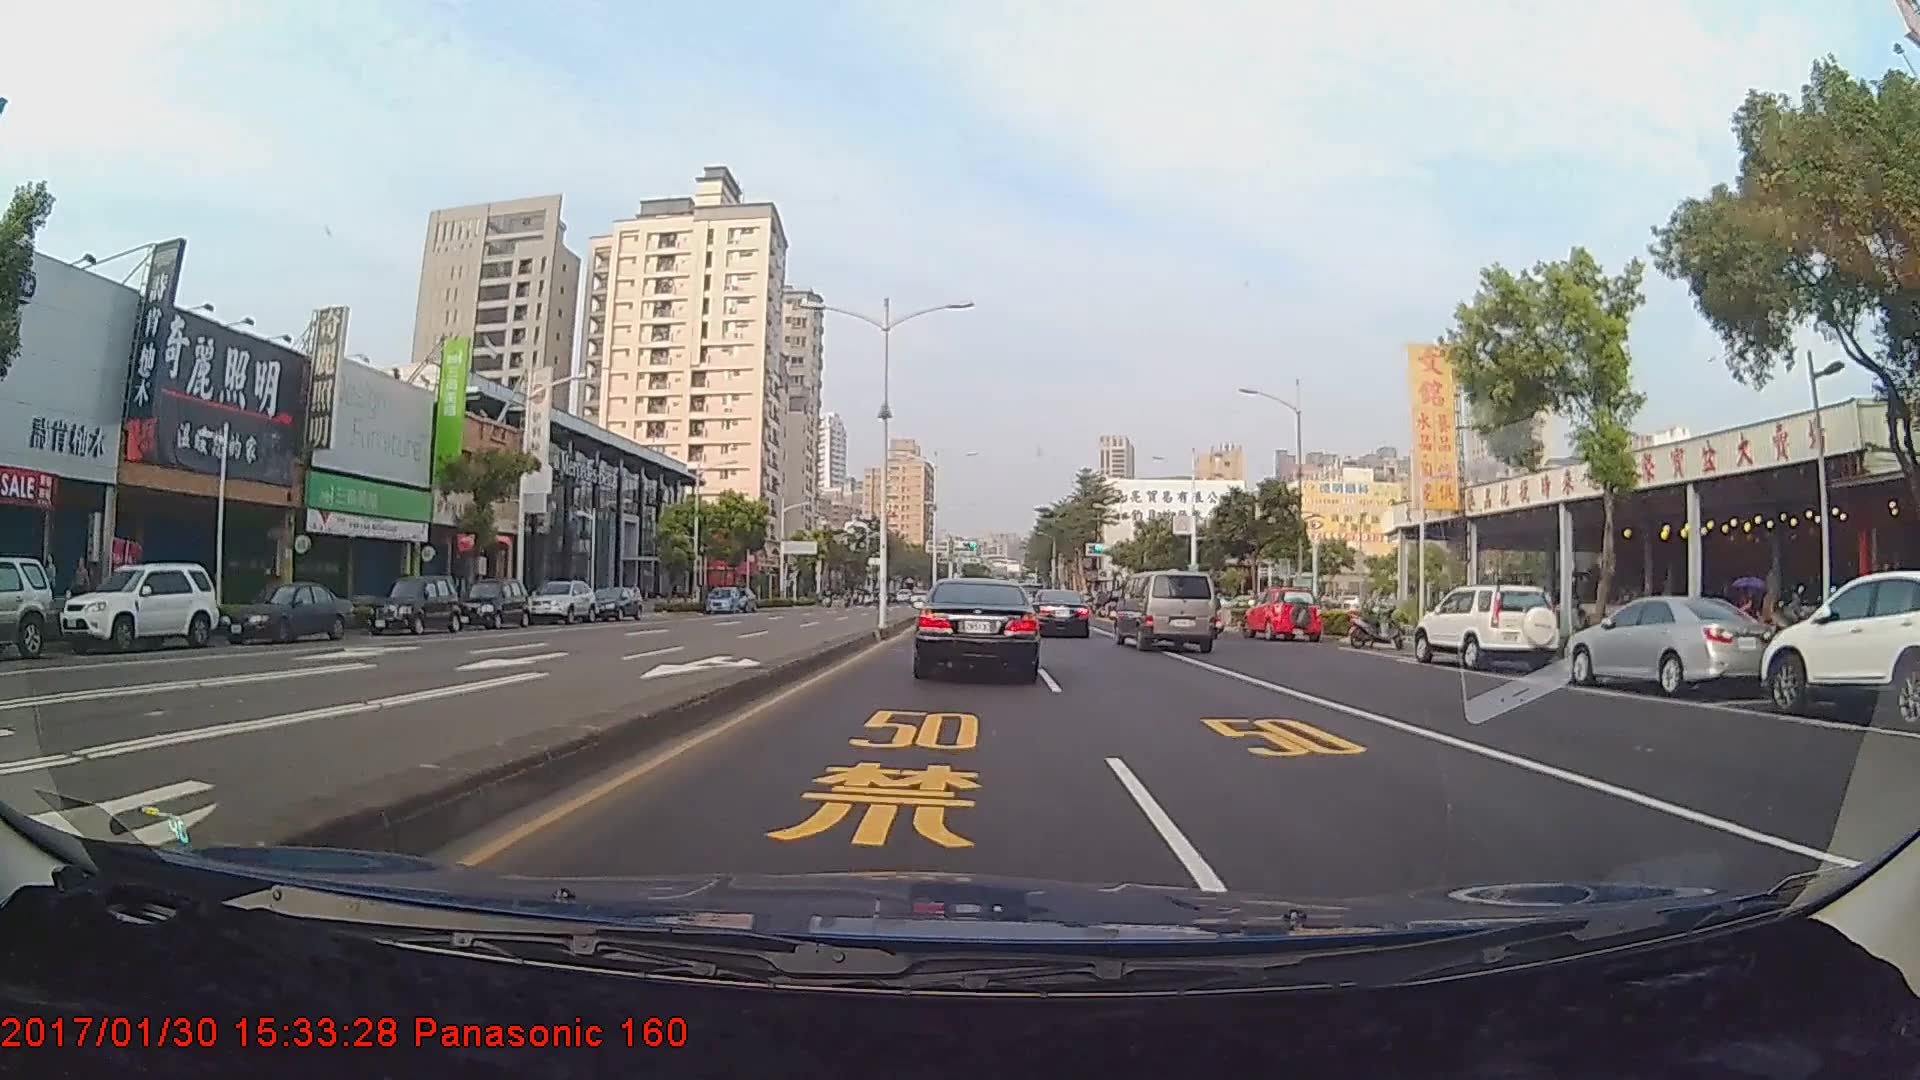vehicle: (1760, 570, 1920, 727), (1569, 589, 1770, 695), (57, 560, 218, 651), (913, 576, 1040, 680), (1411, 583, 1559, 670), (216, 578, 353, 646), (1113, 568, 1218, 651), (364, 572, 462, 633), (0, 554, 55, 657), (1244, 587, 1321, 644), (454, 579, 530, 632), (524, 578, 597, 626), (1026, 588, 1091, 638), (582, 585, 644, 620), (704, 583, 740, 612)
